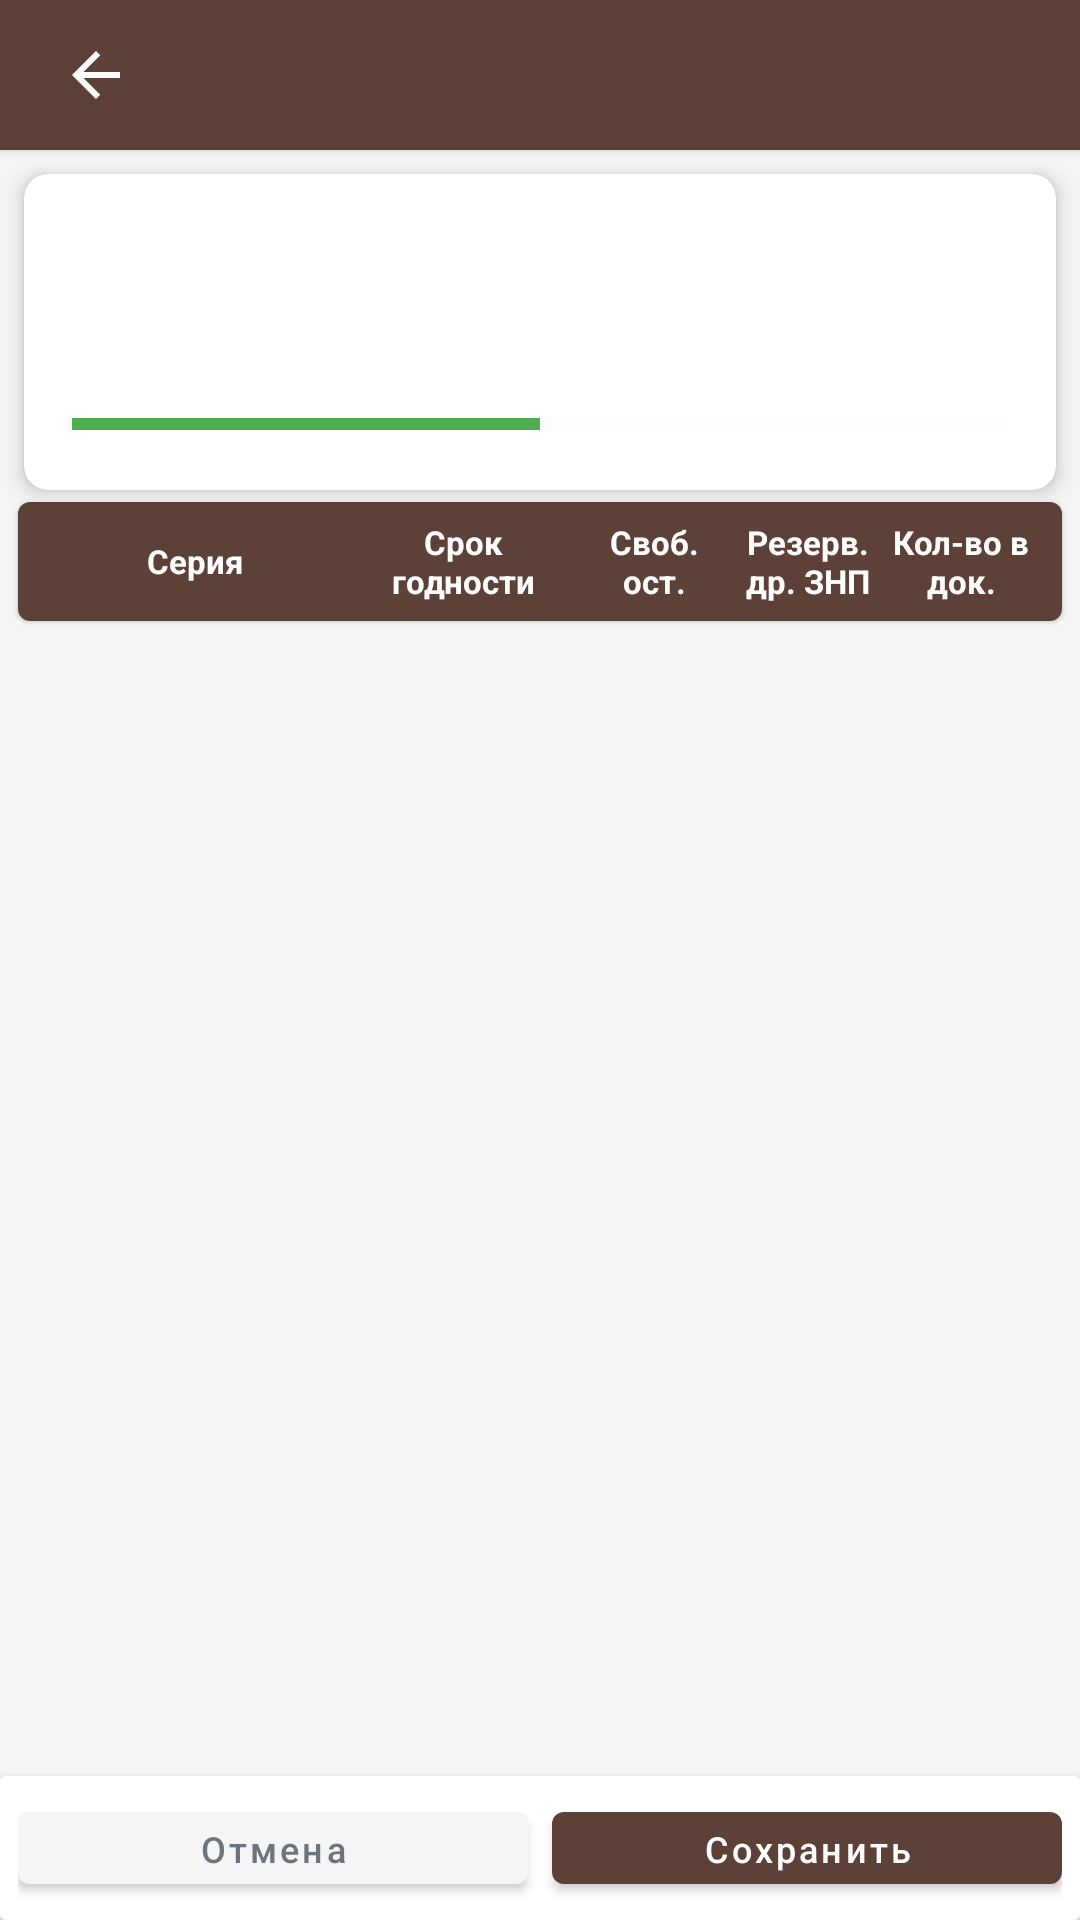

Icon click points for this 1080px x 1920px phone screenshot, format (x=x, y=y):
Кнопка назад: (x=96, y=75)
